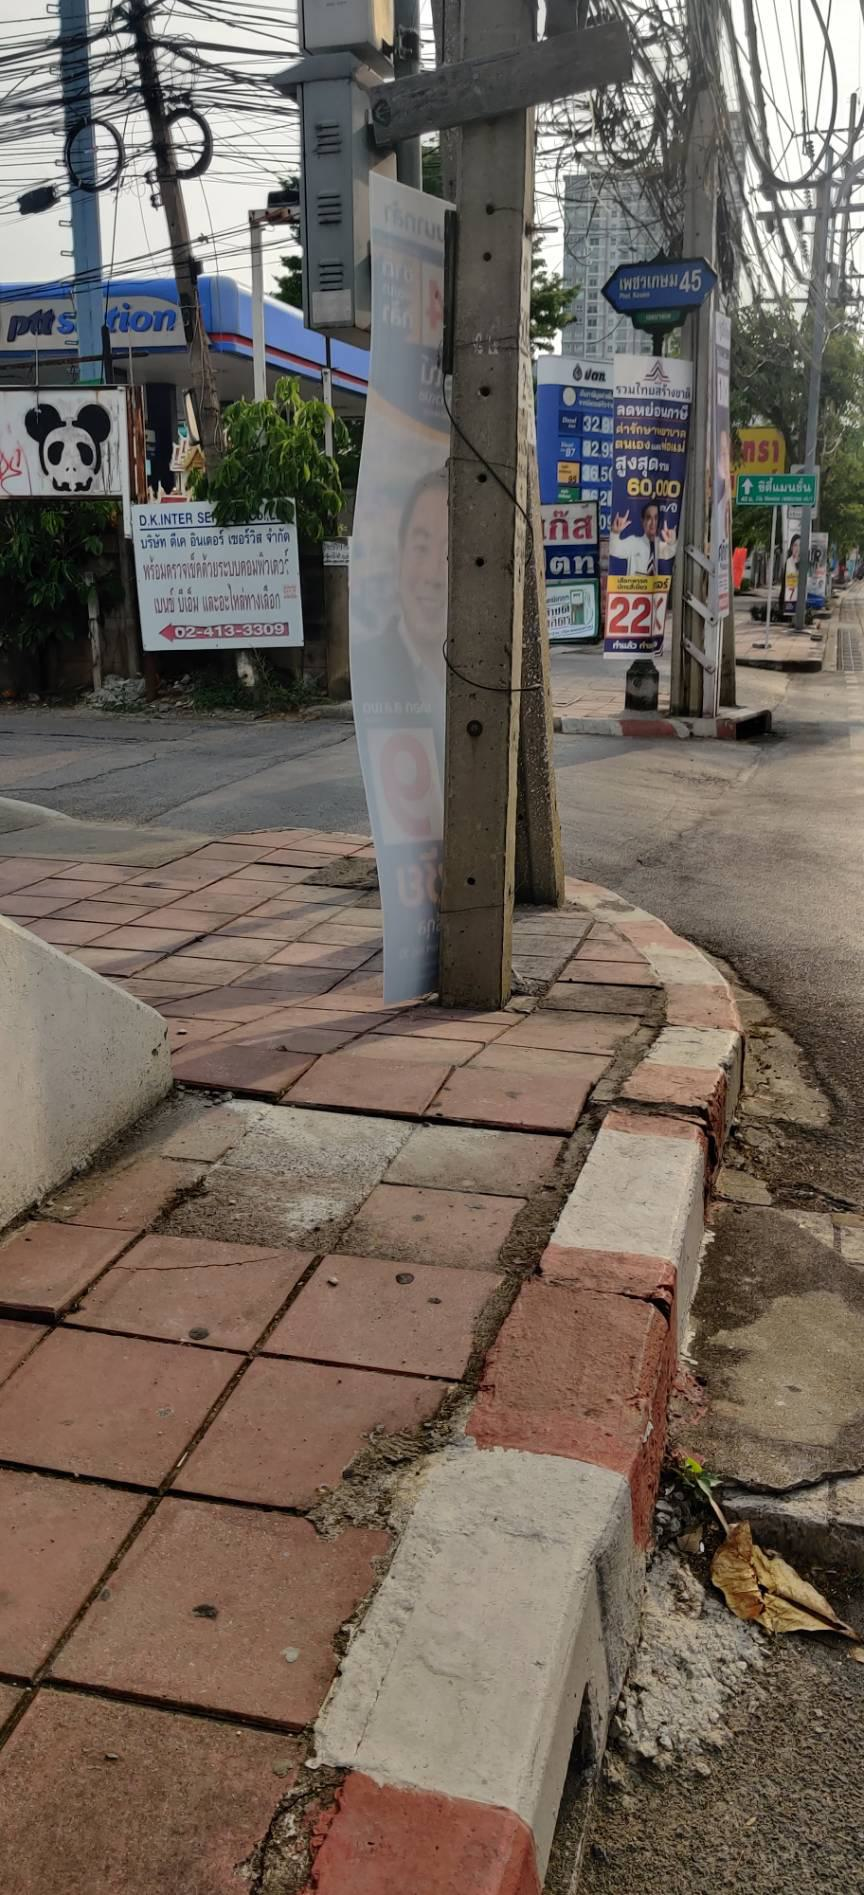Banner: (613, 357, 714, 673)
